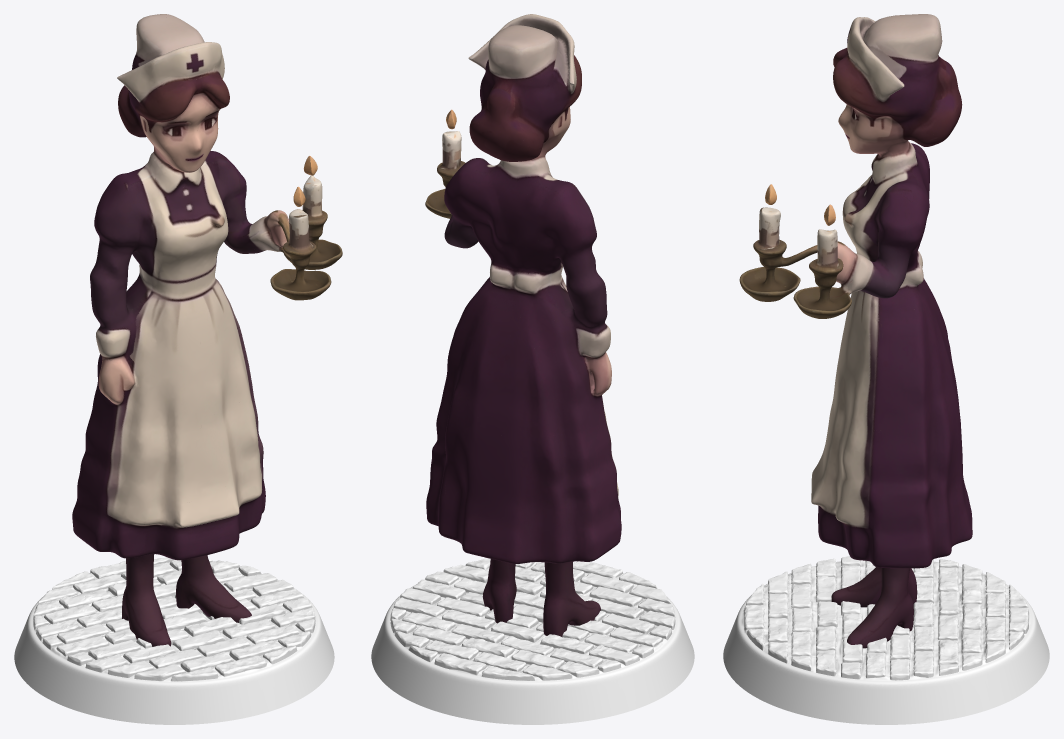
The model's file is enfermeira_base_acesa.glb.
3 views of the same model, side by side, from view 1: azimuth 30°, elevation 25°; view 2: azimuth 150°, elevation 25°; view 3: azimuth 270°, elevation 25° (orthographic).
Parts seen in each view (by area): view 1: mesh_node.001, Object_3.002; view 2: mesh_node.001, Object_3.002; view 3: mesh_node.001, Object_3.002.
Boxes of the visible parts, box(x1,y1,x2,y2) form: mesh_node.001: box(72, 14, 342, 646); Object_3.002: box(14, 557, 334, 724); mesh_node.001: box(425, 14, 621, 636); Object_3.002: box(371, 558, 694, 724); mesh_node.001: box(739, 14, 972, 648); Object_3.002: box(723, 556, 1049, 724).
Bounding box in the file's own units: 0.4185 × 0.9023 × 0.4185.
Materials: 2 (1 with a texture image).
